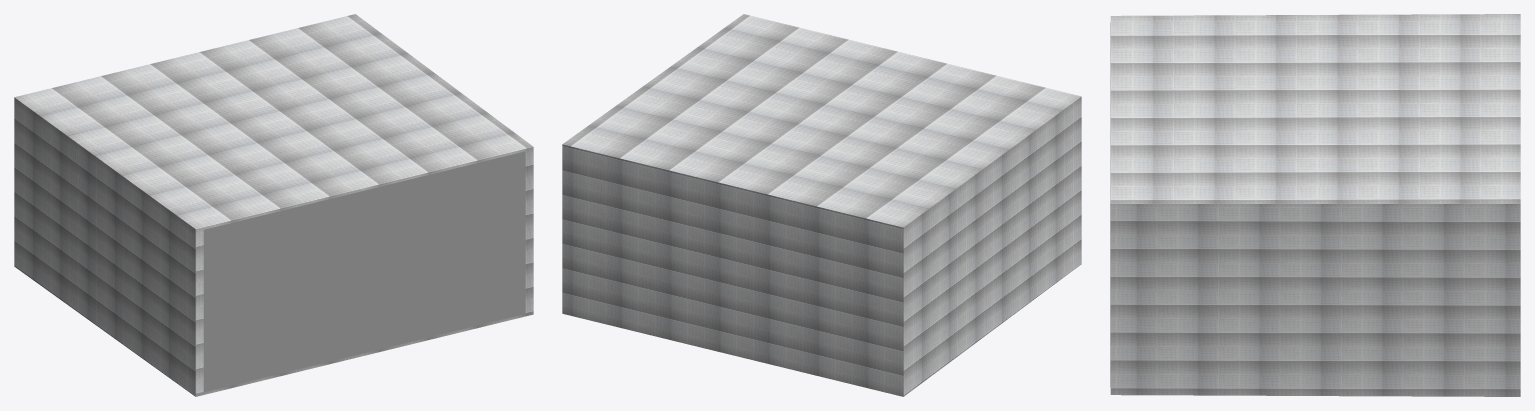
The model's file is theater.fbx.
3 views of the same model, side by side, from view 1: azimuth 30°, elevation 25°; view 2: azimuth 150°, elevation 25°; view 3: azimuth 270°, elevation 25° (orthographic). The views are drawn at different scales.
Parts seen in each view (by area): view 1: pCube1, pCube6; view 2: pCube1; view 3: pCube1, pCube6.
Part boxes in pixels (x1,y1,x2,y2): pCube1: (14,14,533,396); pCube6: (203,151,525,392); pCube1: (562,14,1081,396); pCube1: (1110,14,1520,396); pCube6: (1110,23,1110,387).
Size of the model in its own units: 1998 by 947 by 1825.
Materials: 5 (3 with a texture image).
